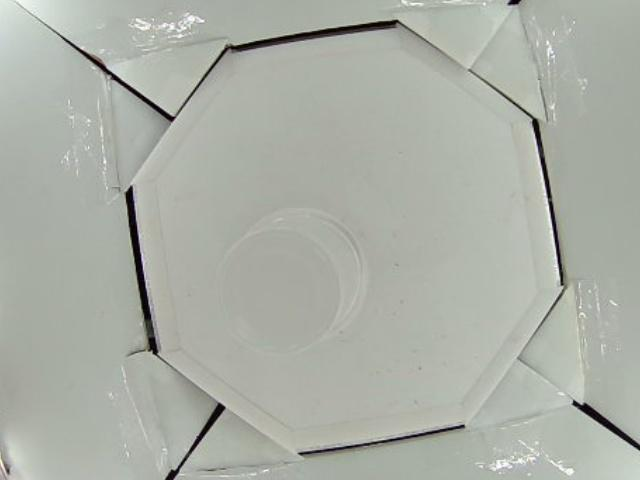Cup: (215, 204, 372, 355)
